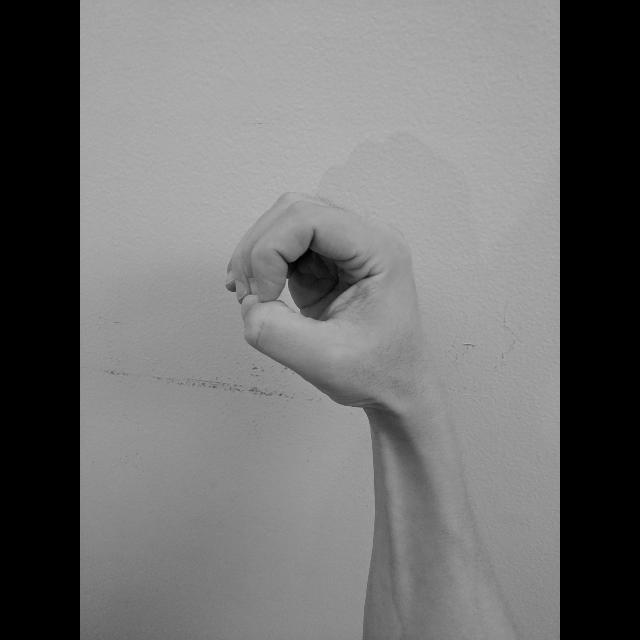O: (221, 188, 434, 412)
